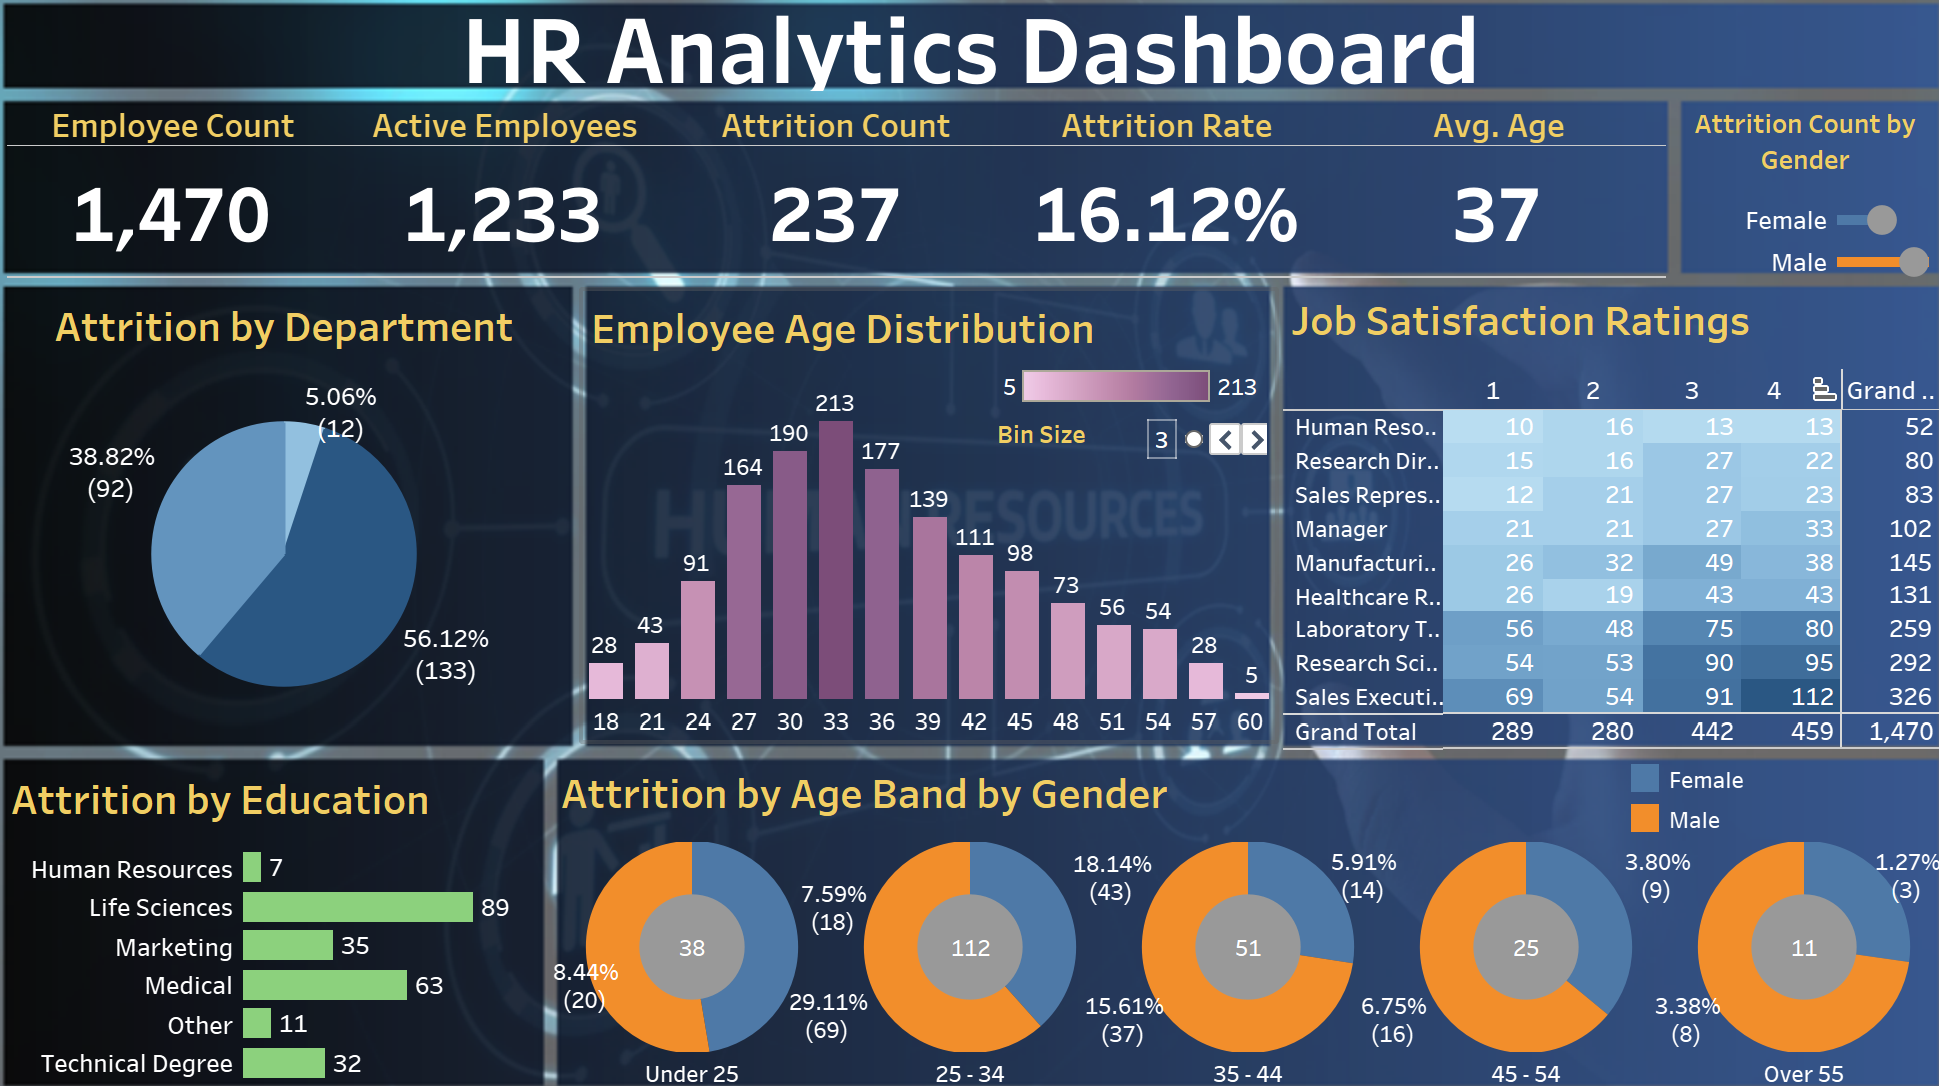

This screenshot's page, from the dashboard's own definition file:
{"tool":"tableau","page":{"name":"Dashboard","canvas":[1000,800],"ordinal":0},"visuals":[{"type":"image","param":"C:/Users/MUH0351/Downloads/HR background.pptx (1).png","box":[8,8,984,784]},{"type":"text","box":[15,128,970,45]},{"type":"worksheet","title":"Attrition Count by Gender","mark":"Automatic","rows":["Gender"],"cols":["Calculation_911697471800442880","Calculation_911697471800442880"],"box":[853,176,128,93]},{"type":"worksheet","title":"KPI","mark":"Automatic","box":[18,180,830,87]},{"type":"worksheet","title":"Job Satisfaction Ratings","mark":"Square","rows":["Job Role"],"cols":["Job Satisfaction"],"box":[656,269,330,233]},{"type":"worksheet","title":"Attrition by Department","mark":"Pie","box":[18,272,277,222]},{"type":"worksheet","title":"Employee Age Distribution","mark":"Bar","rows":["Employee Count"],"cols":["Age (bin)"],"box":[306,273,346,224]},{"type":"legend","title":"Employee Age Distribution","param":"[federated.0yhxwmp1f6rv4l157xuww12t5q4f].[sum:Employee Count:qk]","box":[512,309,136,22]},{"type":"parameter","param":"[Parameters].[Parameter 1]","box":[513,334,138,27]},{"type":"worksheet","title":"Attrition by Age Band by Gender","mark":"Pie","rows":["Calculation_911697471831810054","Calculation_911697471831810054"],"cols":["CF_age band"],"box":[291,505,695,168]},{"type":"legend","title":"Attrition by Age Band by Gender","param":"[federated.0yhxwmp1f6rv4l157xuww12t5q4f].[none:Gender:nk]","box":[827,506,158,42]},{"type":"worksheet","title":"Attrition by Education","mark":"Automatic","rows":["Education Field"],"cols":["Calculation_911697471800442880"],"box":[16,508,265,160]}]}

Visuals, with their boxes on the page's 1000x800 design canvas (x1, y1, x2, y2). These are canvas units, not pixel positions in the 1939x1086 screenshot, which may show the page scaled, cropped or inside an application window:
image: (8,8,992,792)
text: (15,128,985,173)
"Attrition Count by Gender" worksheet: (853,176,981,269)
"KPI" worksheet: (18,180,848,267)
"Job Satisfaction Ratings" worksheet (Square marks): (656,269,986,502)
"Attrition by Department" worksheet (Pie marks): (18,272,295,494)
"Employee Age Distribution" worksheet (Bar marks): (306,273,652,497)
"Employee Age Distribution" legend: (512,309,648,331)
parameter: (513,334,651,361)
"Attrition by Age Band by Gender" worksheet (Pie marks): (291,505,986,673)
"Attrition by Age Band by Gender" legend: (827,506,985,548)
"Attrition by Education" worksheet: (16,508,281,668)
